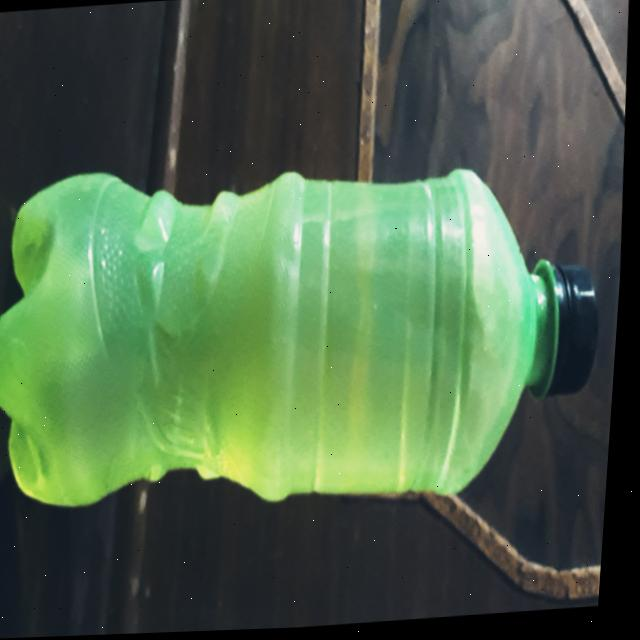Dry: (0, 128, 625, 534)
